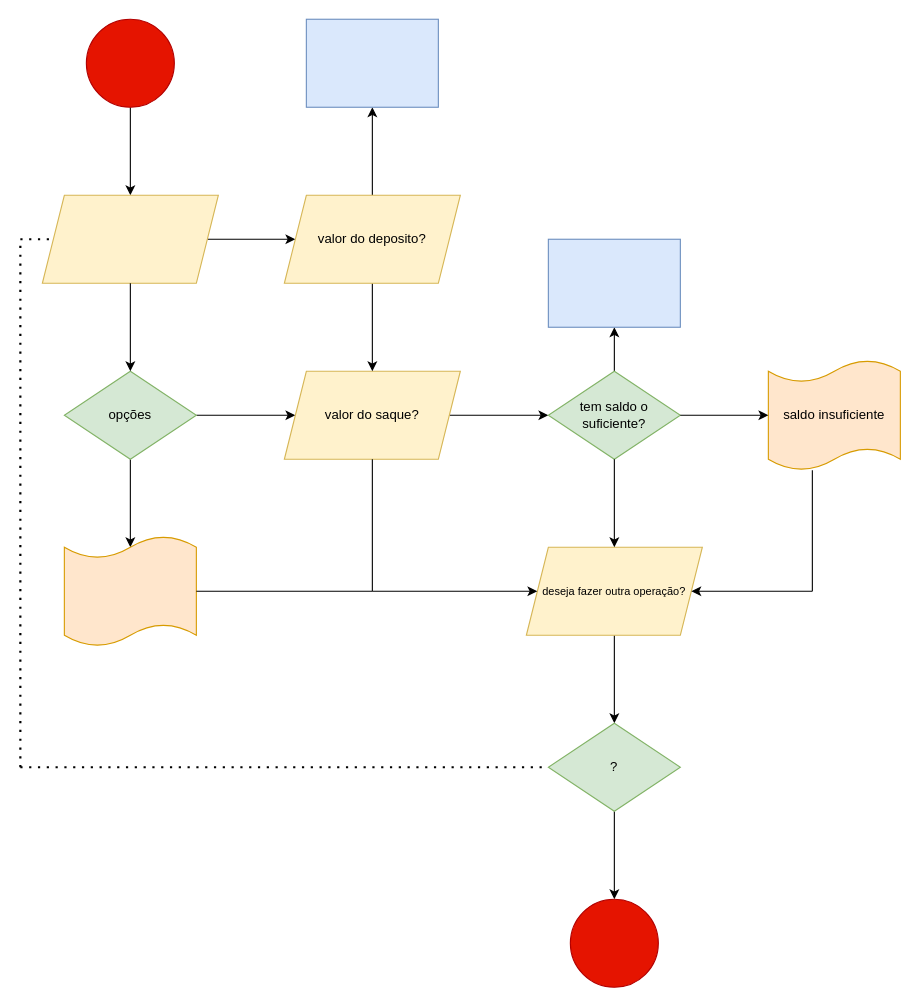
This 920x1007 diagram has some shape labels left out. Each missing label, with the centre of its shape:
"escolha uma das opções: 1- sacar 2- depositar 3- verificar saldo" belongs at (x=129, y=238).
"mostrar saldo" belongs at (x=129, y=590).
"saldo = saldo + saque" belongs at (x=371, y=62).
"saldo = saldo - saque" belongs at (x=613, y=282).
